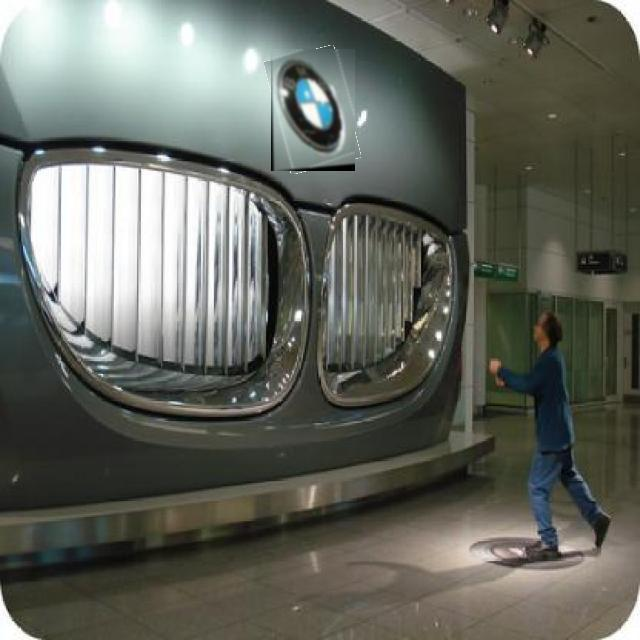BMW: (271, 49, 355, 171)
